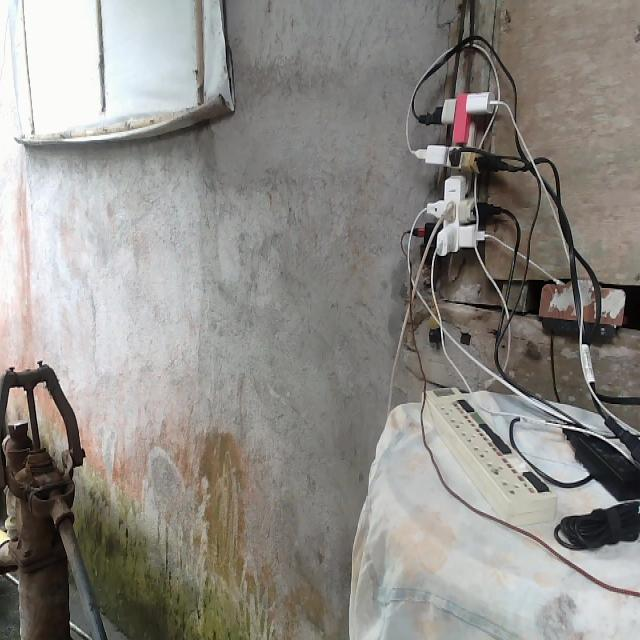-: (405, 90, 511, 254)
